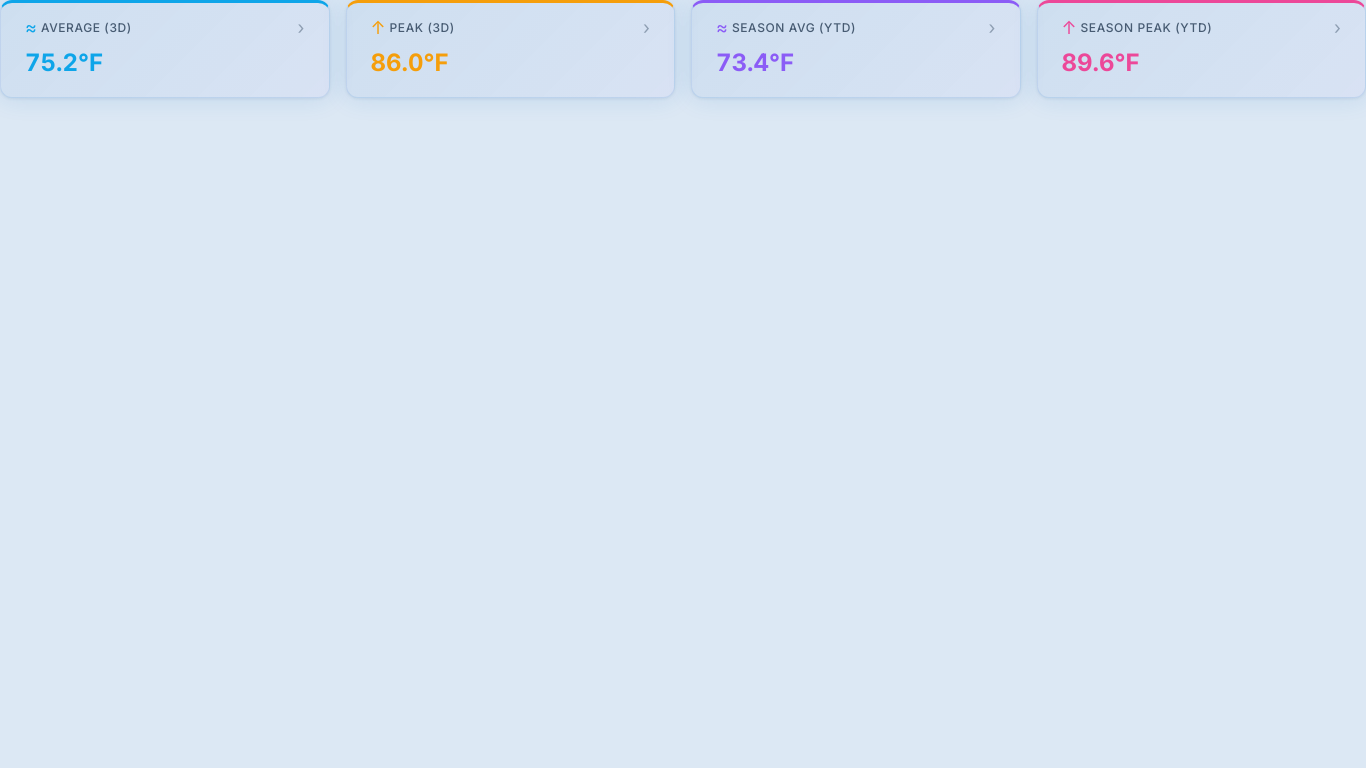
Test: StatsGrid › opens season history sheet when season card is clicked
This screenshot has width=1366, height=768.
What coordinates should you click on to do the following:
click the button with test id "stat-card" showing "≈ Season Avg (YTD) › 73.4°F"
I would click on:
 (794, 28)
Its box is 691,0 -> 1020,98.
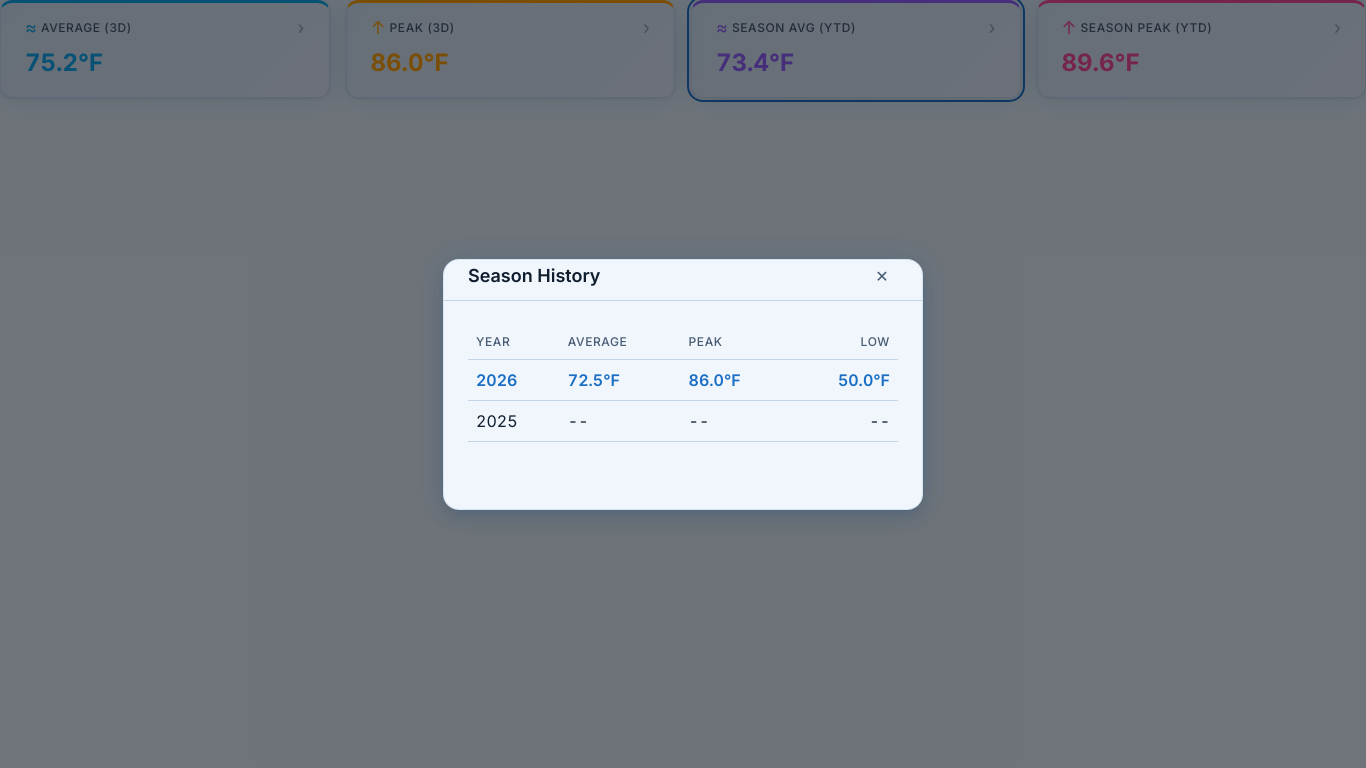
Expected: the dialog is shown, 443,258 -> 923,510
Expected: the heading "Season History" is shown, 468,262 -> 600,289
